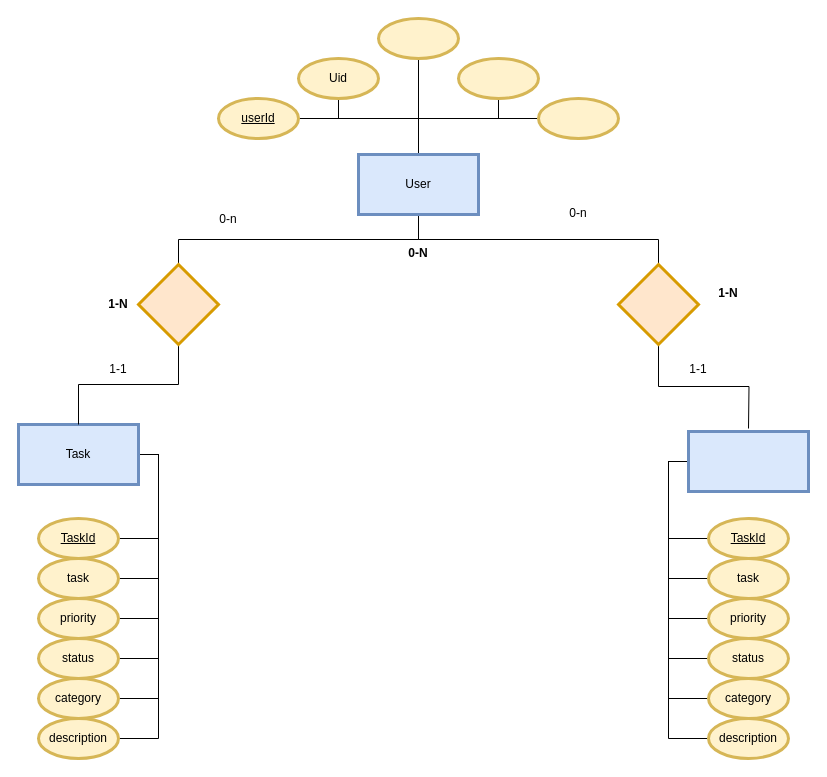
The diagram is 827 pixels wide and 777 high, and some of its shapes have lost their labels. The shapes that lost their labels are listed below. From the top down, each one's centre as x and y in pixels, then its label:
the point at 418,38: identificador
the point at 498,78: providers
the point at 578,118: creationDate
the point at 178,304: CREA
the point at 658,304: ARCHIVA
the point at 748,461: archivedTask
